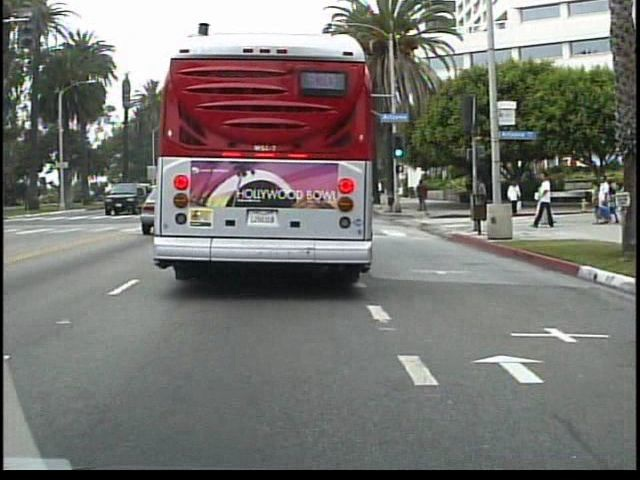person: (535, 168, 557, 227), (474, 172, 492, 216), (415, 177, 433, 217), (506, 178, 527, 203)
